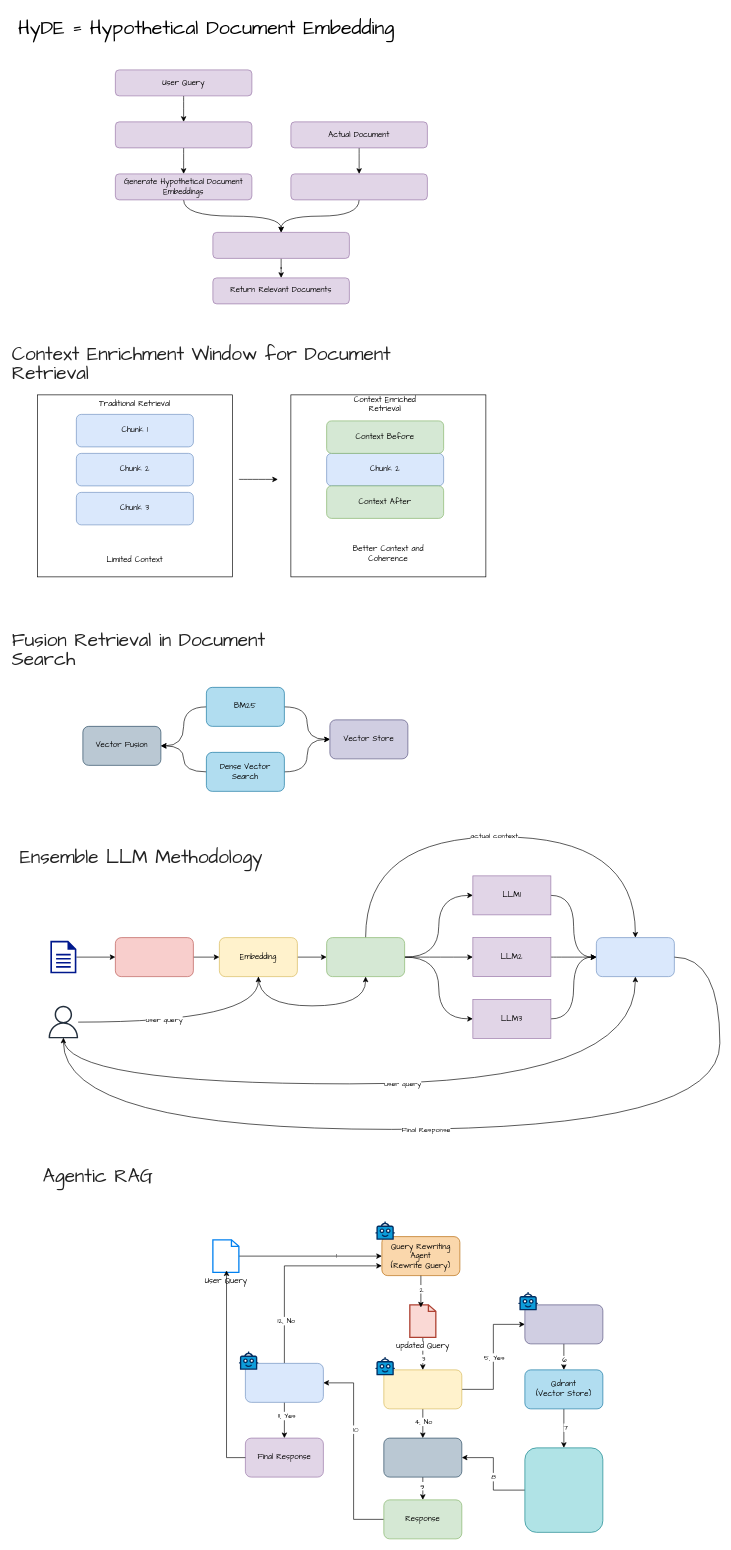
This 731x1550 diagram has some shape labels left out. Here are the shapes that lost their labels. From the top down, the centre of each, then its label:
(x=183, y=134): Generate Hypothetical Document
(x=358, y=186): Document Store
(x=280, y=245): Similarity Search in Doc Store
(x=154, y=957): Chunking
(x=365, y=957): Vector Database
(x=635, y=957): LLM4
(x=63, y=1022): User
(x=563, y=1324): retriever Agent
(x=284, y=1382): Validating Agent (Is the answer relevant)
(x=422, y=1389): Decision making Agent (Do i Need More details?)
(x=422, y=1457): LLM
(x=563, y=1489): Retrieved context + Updated Query
